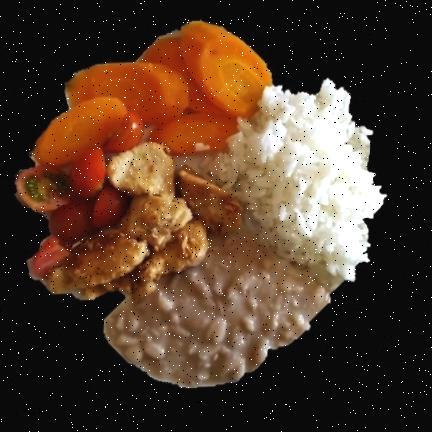beans: (102, 234, 332, 391)
carrot: (30, 23, 275, 159)
chicken: (34, 146, 247, 300)
rice: (183, 81, 387, 296)
tomato: (12, 157, 130, 281)
